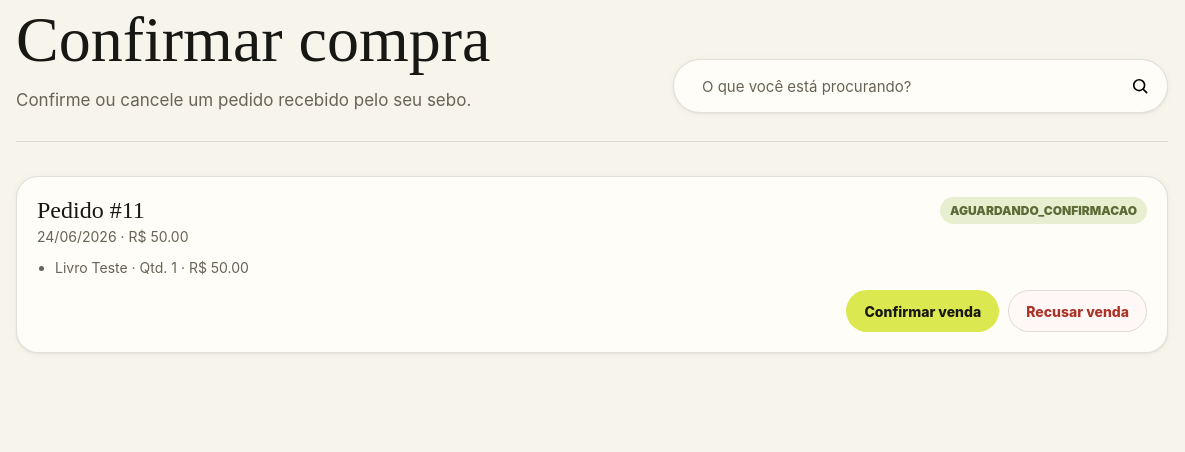
Test: SaleConfirmationPage — branches adicionais › mostra erro ao recusar venda quando atualizarStatus falha
The image size is (1185, 452).
Click the button "Recusar venda" at (1078, 311), box [1008,290,1147,332]
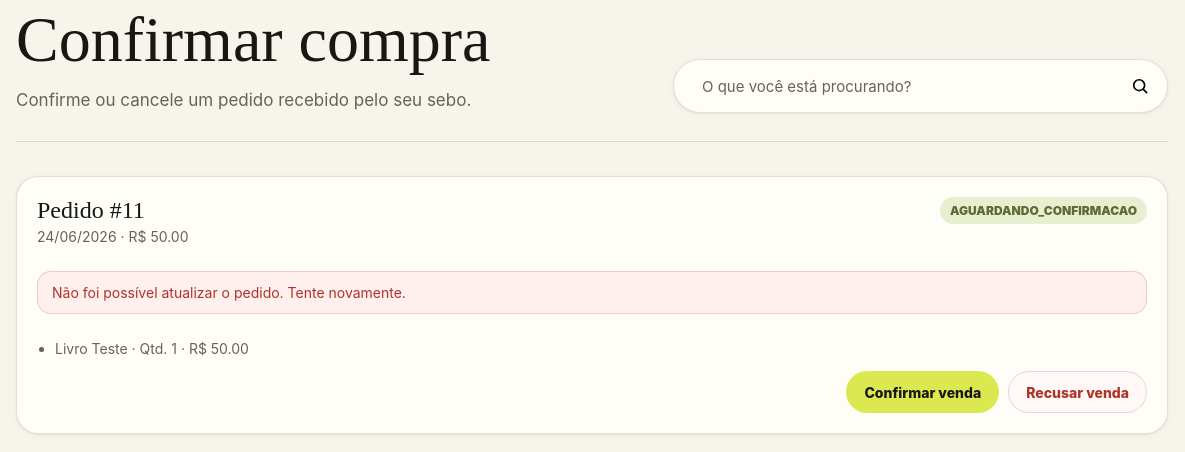
Result: the message reads "Não foi possível atualizar o pedido. Tente novamente." at [52,284,406,301]
